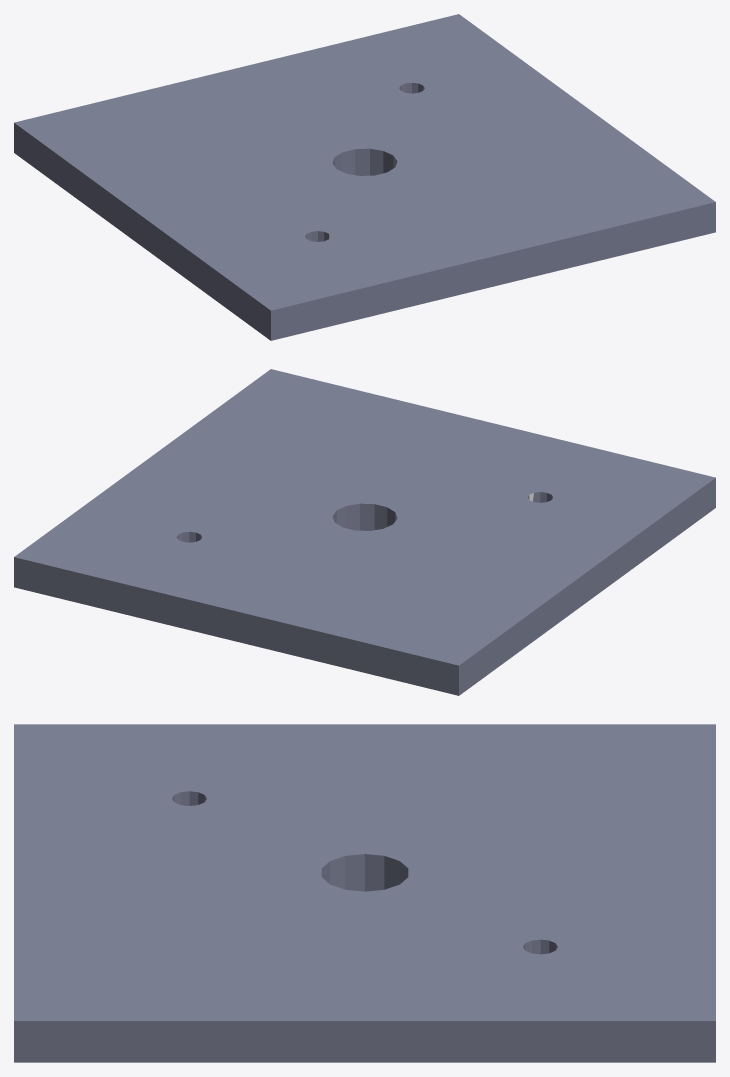
The model's file is TopPlate.dae.
3 renders of one model, top to bottom at view 1: azimuth 30°, elevation 25°; view 2: azimuth 150°, elevation 25°; view 3: azimuth 270°, elevation 25°, orthographic. The views are drawn at different scales.
Parts seen in each view (by area): view 1: node0; view 2: node0; view 3: node0.
Part boxes in pixels (x1,y1,x2,y2): node0: (14,14,715,340); node0: (14,369,715,695); node0: (14,724,715,1062).
Size of the model in its own units: 0.2 by 0.2 by 0.013.
